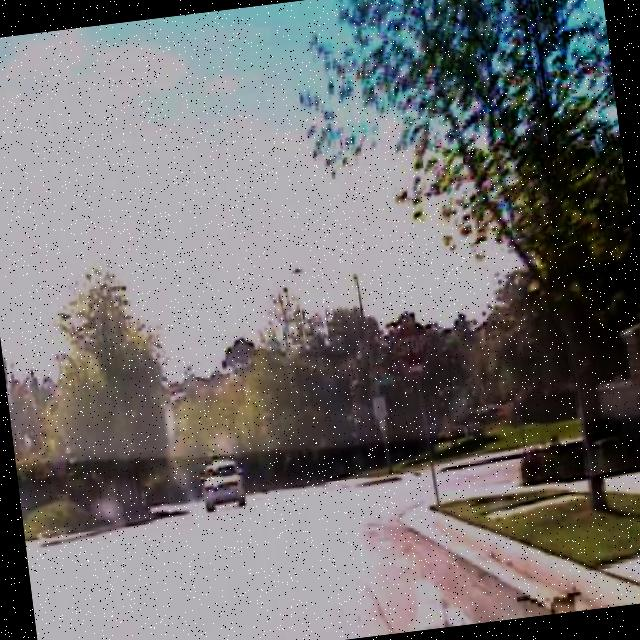Stop: (391, 322, 434, 374)
